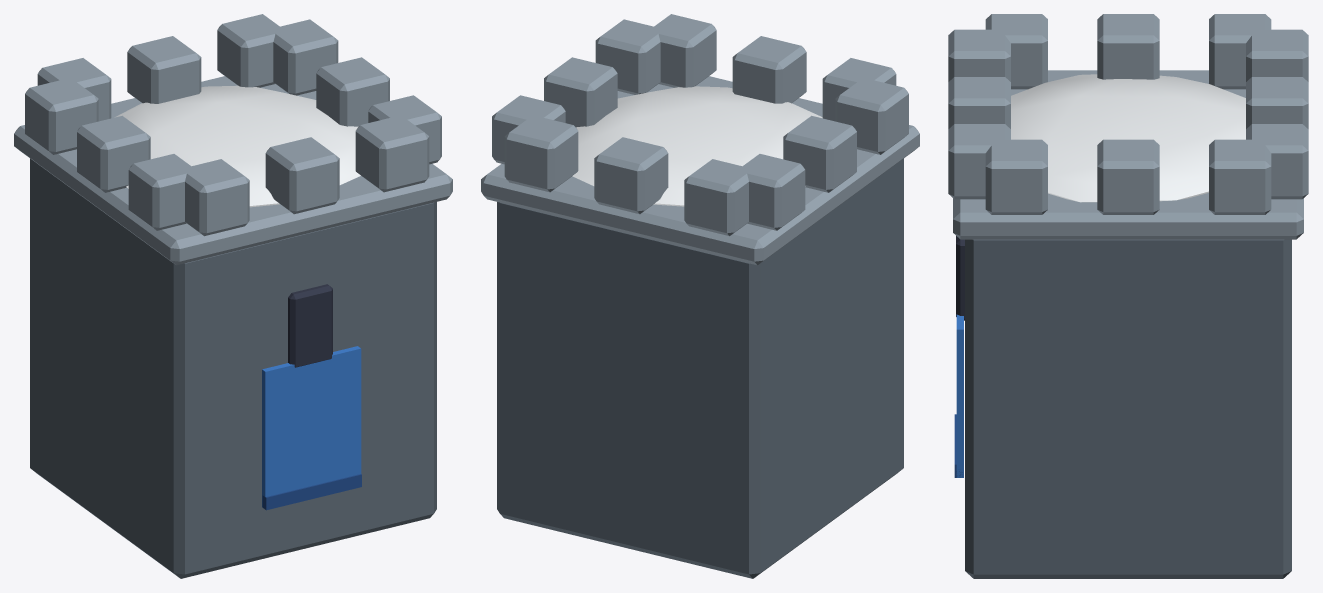
The model's file is Tower_Ridge.fbx.
3 views of the same model, side by side, from view 1: azimuth 30°, elevation 25°; view 2: azimuth 150°, elevation 25°; view 3: azimuth 270°, elevation 25° (orthographic). The views are drawn at different scales.
Visible parts, largest first — view 1: Tower_Ridge; view 2: Tower_Ridge; view 3: Tower_Ridge.
Part boxes in pixels (left/top/right/bottom): Tower_Ridge: left=14, top=14, right=452, bottom=578; Tower_Ridge: left=481, top=14, right=919, bottom=578; Tower_Ridge: left=948, top=14, right=1308, bottom=578.
Bounding box in the file's own units: 2.42 × 3.16 × 2.42.
